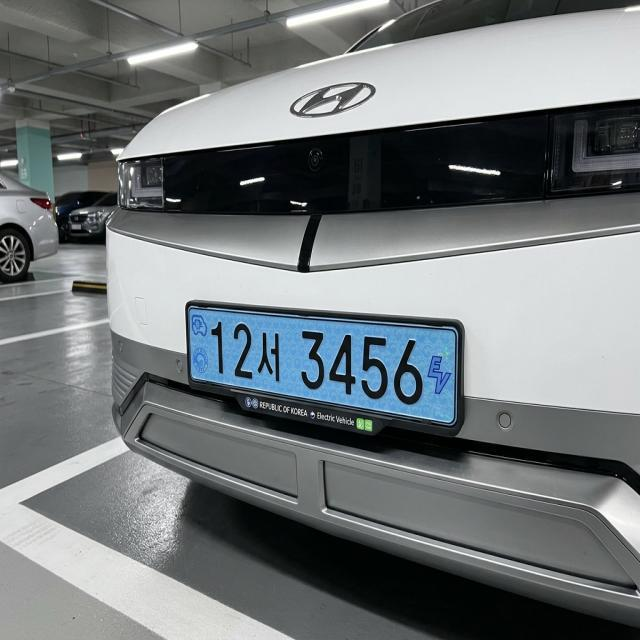car: (170, 288, 497, 458)
carev: (426, 323, 453, 421), (187, 302, 214, 392)
